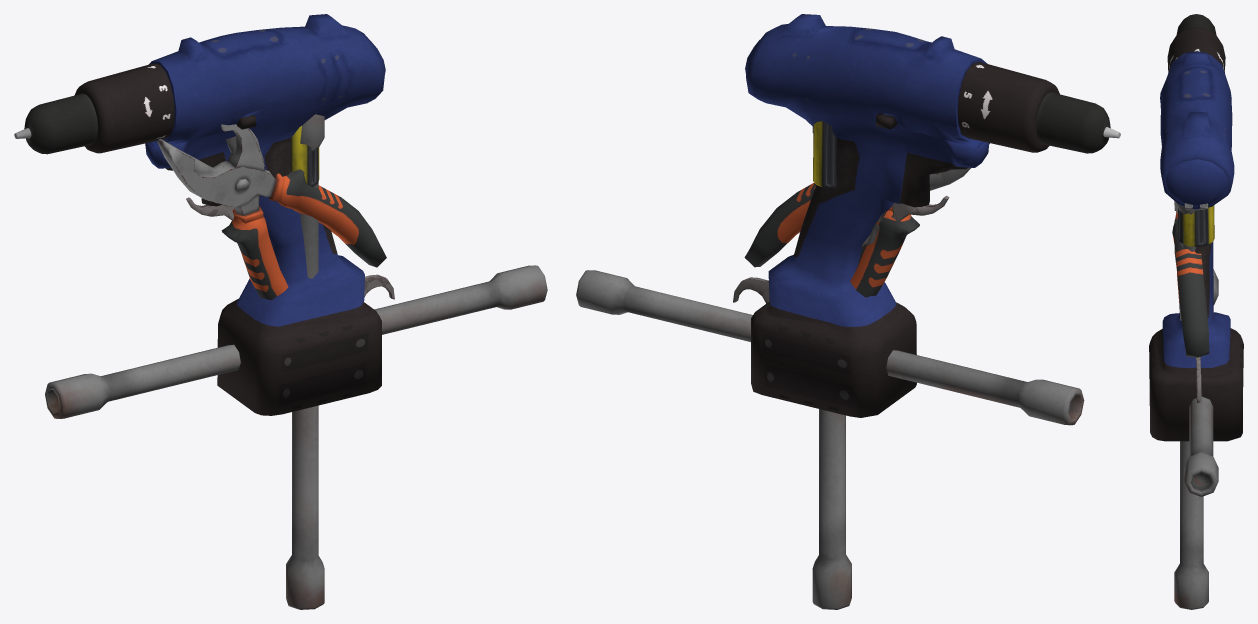
The model's file is HERRAMIENTAS.fbx.
The picture shows the model from 3 angles, left to right: view 1: azimuth 30°, elevation 25°; view 2: azimuth 150°, elevation 25°; view 3: azimuth 270°, elevation 25°; orthographic projection. The views are drawn at different scales.
Parts seen in each view (by area): view 1: TALADRO, LLAVE_DE_CRUZ, ALICATE, DESTORNILLADOR, LLAVE; view 2: TALADRO, LLAVE_DE_CRUZ, ALICATE, DESTORNILLADOR, LLAVE; view 3: TALADRO, LLAVE_DE_CRUZ, ALICATE, DESTORNILLADOR, LLAVE.
Boxes of the visible parts, x1=… form: TALADRO: x1=14, y1=14, x2=385, y2=415; LLAVE_DE_CRUZ: x1=45, y1=114, x2=547, y2=609; ALICATE: x1=157, y1=124, x2=386, y2=300; DESTORNILLADOR: x1=290, y1=126, x2=319, y2=186; LLAVE: x1=186, y1=197, x2=394, y2=299; TALADRO: x1=745, y1=14, x2=1120, y2=417; LLAVE_DE_CRUZ: x1=576, y1=127, x2=1084, y2=609; ALICATE: x1=744, y1=143, x2=989, y2=297; DESTORNILLADOR: x1=813, y1=121, x2=836, y2=188; LLAVE: x1=733, y1=172, x2=949, y2=303; TALADRO: x1=1149, y1=14, x2=1243, y2=441; LLAVE_DE_CRUZ: x1=1174, y1=201, x2=1218, y2=609; ALICATE: x1=1172, y1=202, x2=1209, y2=357; DESTORNILLADOR: x1=1178, y1=205, x2=1214, y2=246; LLAVE: x1=1196, y1=357, x2=1201, y2=402.
Bounding box in the file's own units: 48.69 × 51.79 × 8.83.
